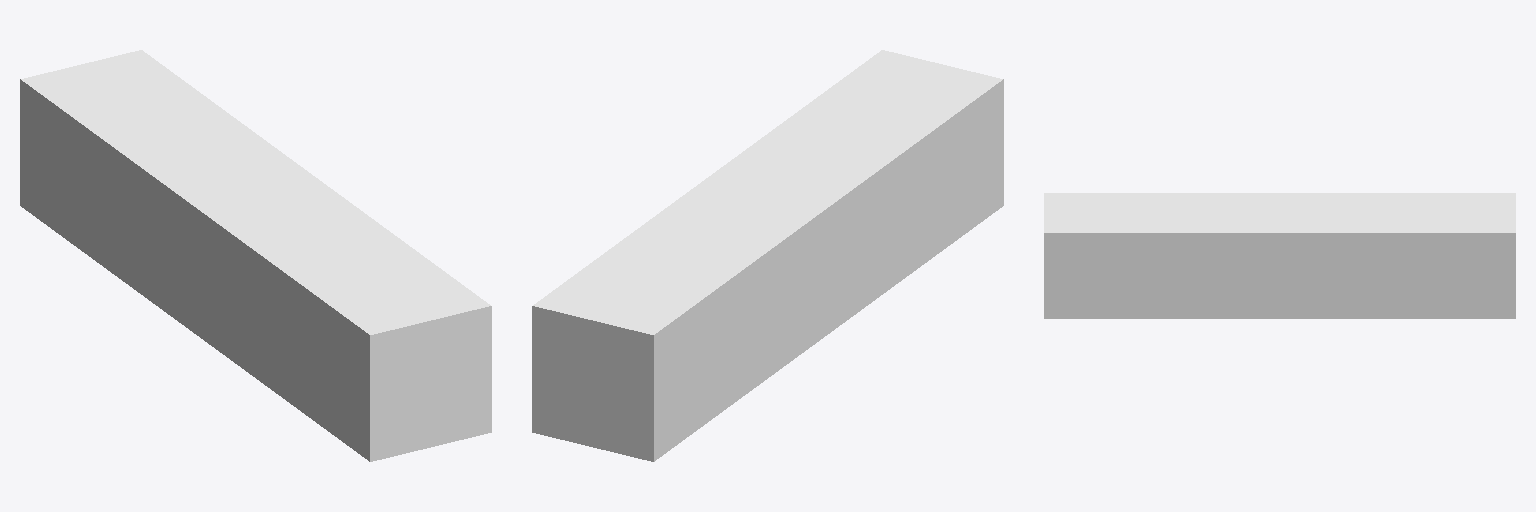
URDF robot description (rect.urdf):
<?xml version="1.0" ?>
<robot name="rect.urdf">
  <link name="baseLink">
    <contact>
    	<friction_anchor/>
    	   <lateral_friction value="1.0"/>
    </contact>
    <inertial>
      <origin rpy="0 0 0" xyz="0 0 0"/>
       <mass value=".1"/>
       <inertia ixx="1" ixy="0" ixz="0" iyy="1" iyz="0" izz="1"/>
    </inertial>
    <visual>
      <origin rpy="0 0 0" xyz="0 0 0"/>
      <geometry>
				<box size="0.03 0.15 0.03" />
      </geometry>
       <material name="white">
        <color rgba="1 1 1 1"/>
      </material>
    </visual>
    <collision>
      <origin rpy="0 0 0" xyz="0 0 0"/>
      <geometry>
	 	<box size="0.03 0.15 0.03" />
      </geometry>
    </collision>
  </link>
</robot>

--- Render facts (derived) ---
3 views of the same robot in one strip: view 1: azimuth 30°, elevation 25°; view 2: azimuth 150°, elevation 25°; view 3: azimuth 270°, elevation 25° (orthographic).
Robot: rect.urdf — 1 links, 0 joints (none); root link baseLink; default pose: all joints at 0.
Links seen in each view (by area): view 1: baseLink; view 2: baseLink; view 3: baseLink.
Link boxes in pixels (x1,y1,x2,y2): baseLink: (20, 50, 491, 461); baseLink: (532, 50, 1003, 461); baseLink: (1044, 193, 1515, 318).
Size in the robot's own frame: 0.03 by 0.15 by 0.03 metres.
Geometry: primitives only (box / cylinder / sphere), no mesh files.